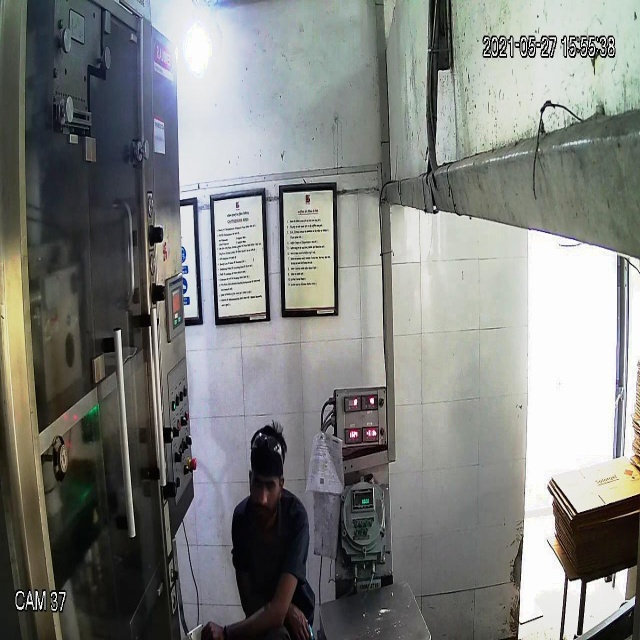Sin_gafas: (245, 471, 289, 498)
